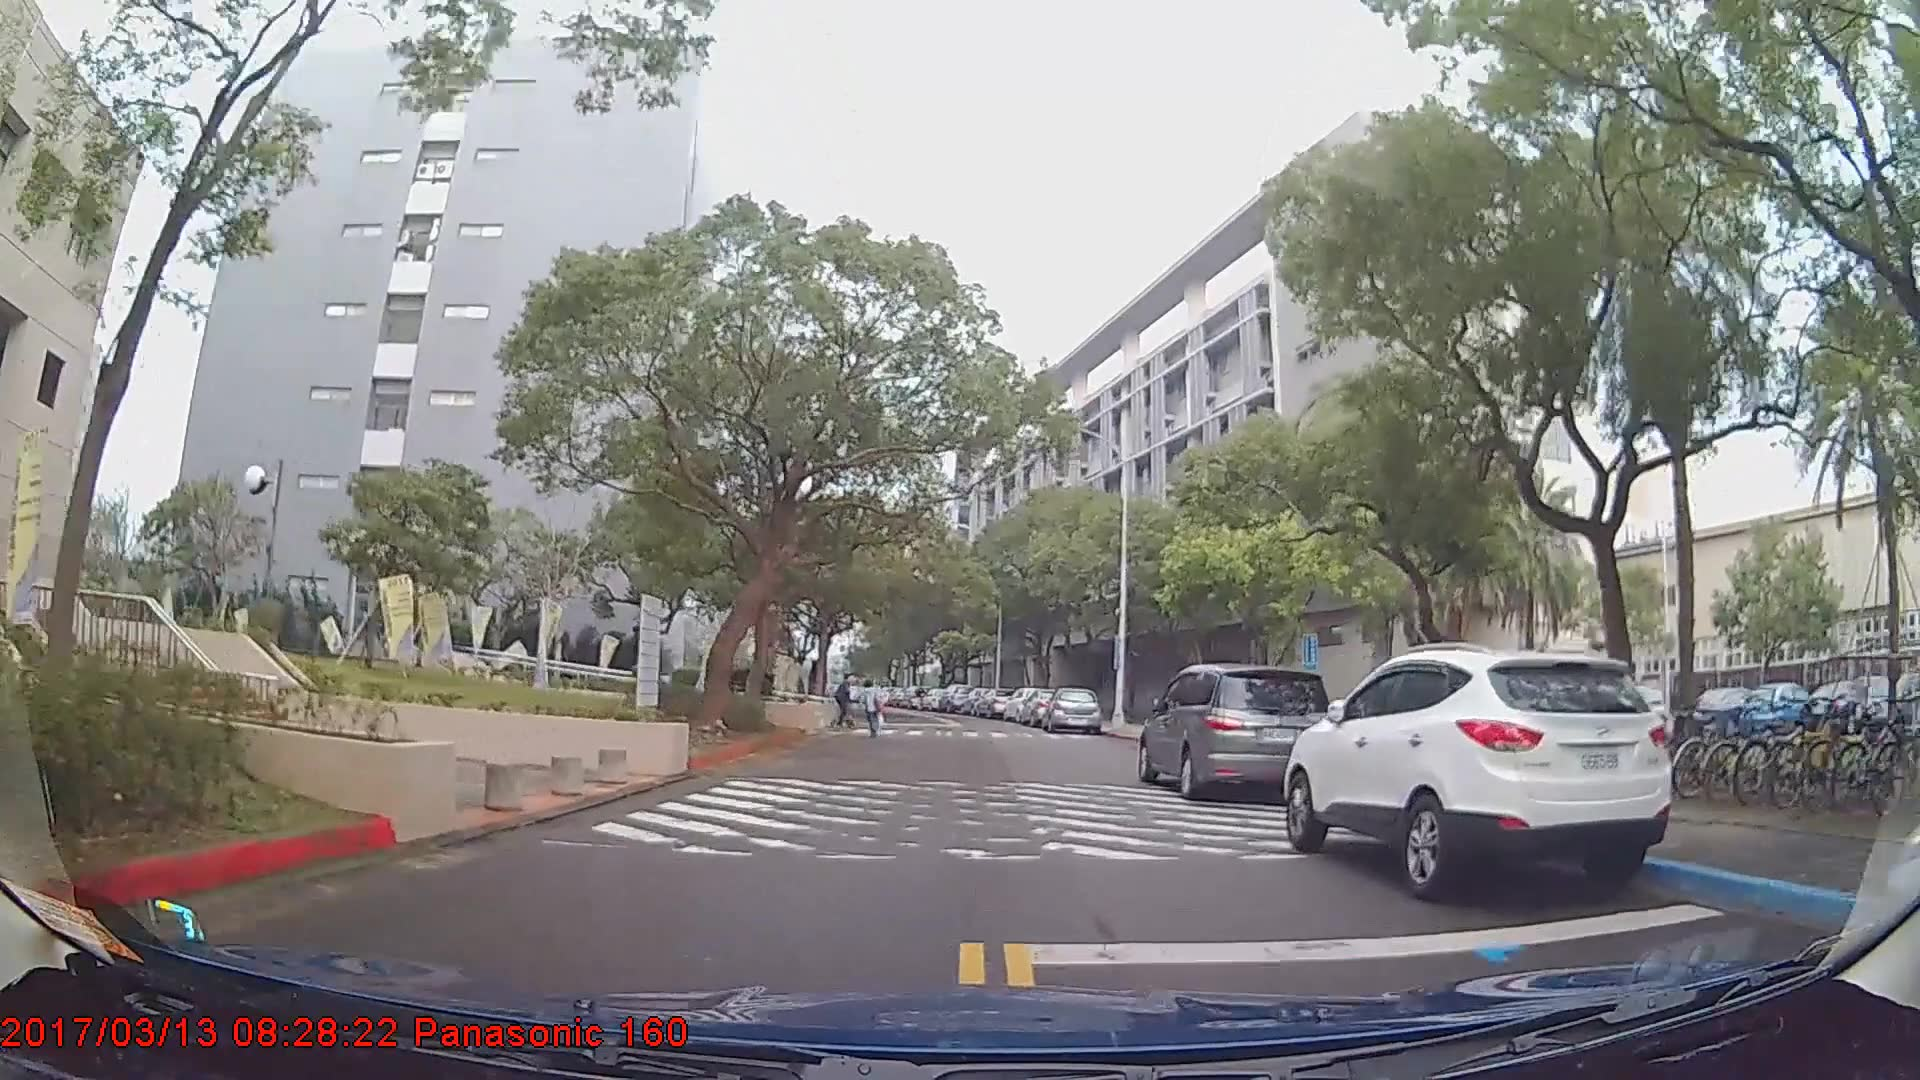pedestrian: (854, 681, 885, 741), (834, 672, 856, 727)
vehicle: (1277, 641, 1678, 899), (1136, 660, 1337, 803), (1799, 677, 1884, 735), (1686, 683, 1773, 739), (1737, 679, 1815, 736), (1045, 683, 1101, 735), (935, 680, 973, 711)
